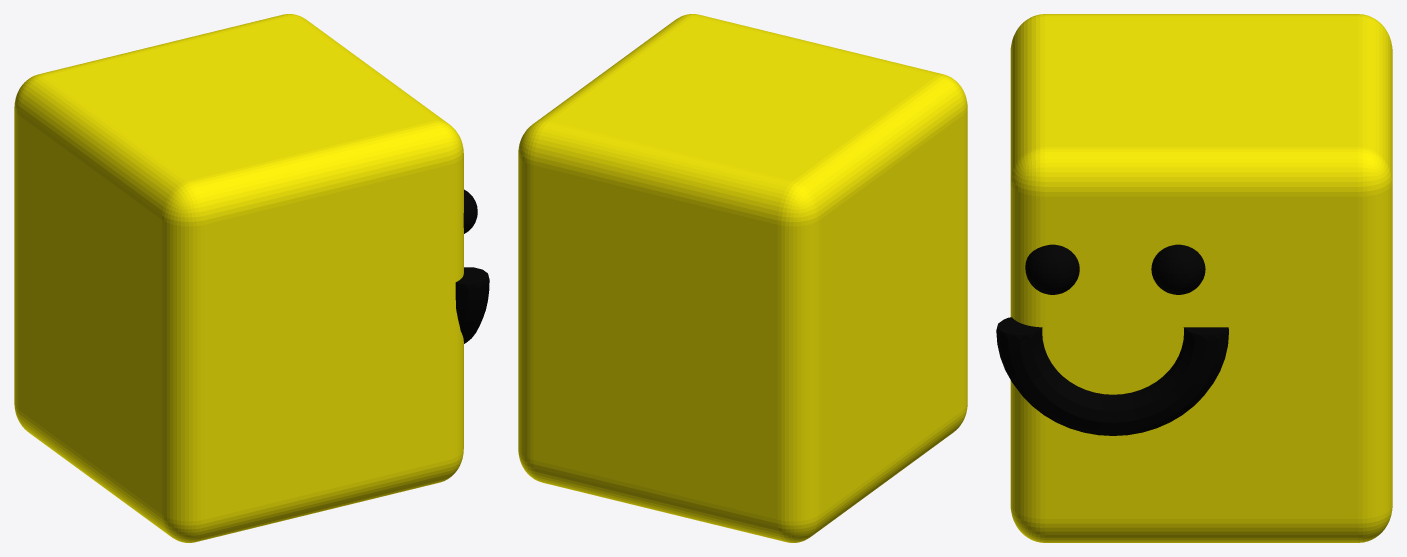
Rendered from Chracter_Yellow.glb.
The picture shows the model from 3 angles, left to right: view 1: azimuth 30°, elevation 25°; view 2: azimuth 150°, elevation 25°; view 3: azimuth 270°, elevation 25°; orthographic projection. The views are drawn at different scales.
Visible parts, largest first — view 1: Chracter_Yellow; view 2: Chracter_Yellow; view 3: Chracter_Yellow.
Boxes of the visible parts, x1,y1,x2,y2 form: Chracter_Yellow: (14,14,489,542); Chracter_Yellow: (518,14,967,542); Chracter_Yellow: (996,14,1392,542).
Size of the model in its own units: 1.84 by 2 by 1.83.
